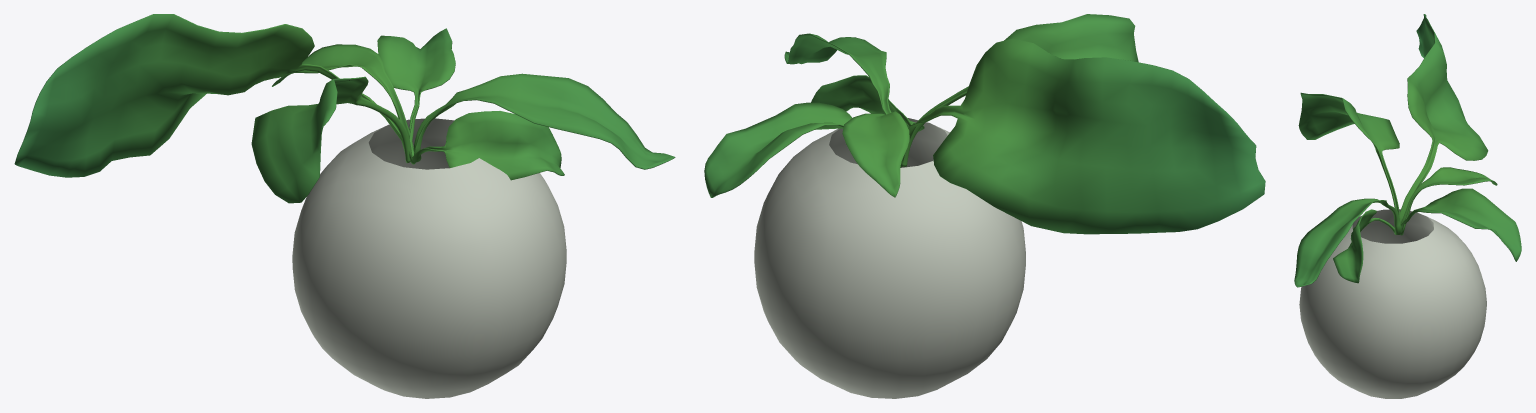
The model's file is Plants2.fbx.
3 views of the same model, side by side, from view 1: azimuth 30°, elevation 25°; view 2: azimuth 150°, elevation 25°; view 3: azimuth 270°, elevation 25° (orthographic). The views are drawn at different scales.
Parts seen in each view (by area): view 1: weed_plant_02_e_LOD0; view 2: weed_plant_02_e_LOD0; view 3: weed_plant_02_e_LOD0.
Boxes of the visible parts, <box> form: weed_plant_02_e_LOD0: <box>14,14,675,398</box>; weed_plant_02_e_LOD0: <box>704,14,1265,398</box>; weed_plant_02_e_LOD0: <box>1294,14,1521,398</box>.
Size of the model in its own units: 1.62 by 3.18 by 2.12.
